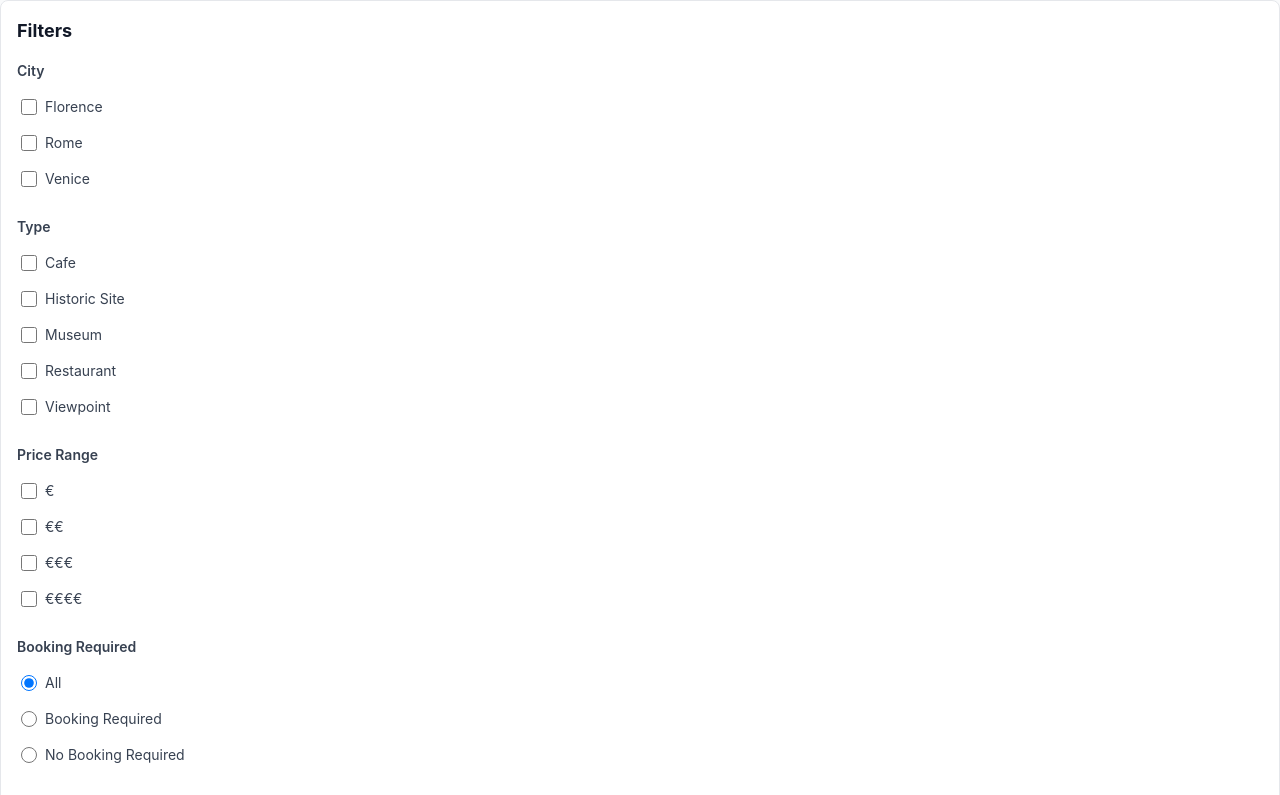
it: FilterPanel Component › Clear All Functionality › should show Clear All button when filters are active
Check: the text "Clear All" is not shown
Click the checkbox named "Filter by Rome": (29, 143) 21,135 -> 37,151
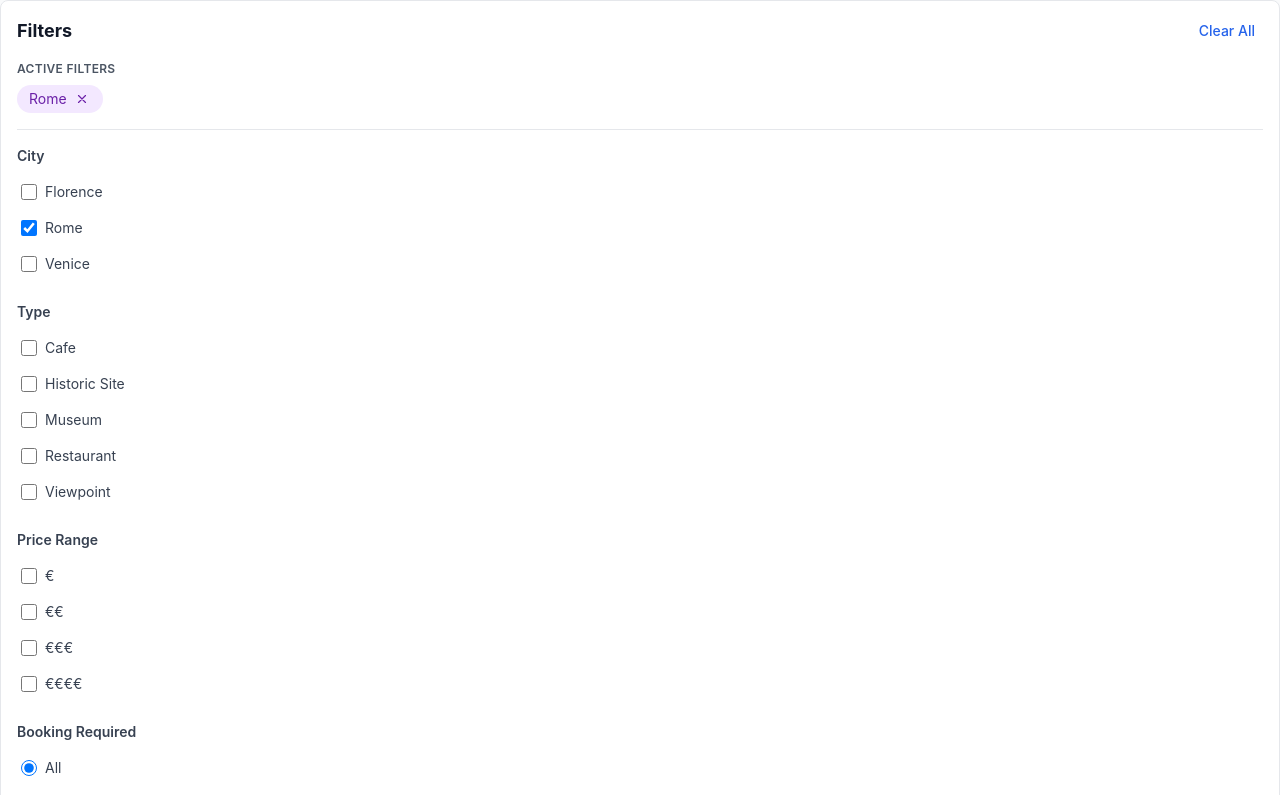
Check: the button "Clear All" is shown, box 1191,17 -> 1263,45
